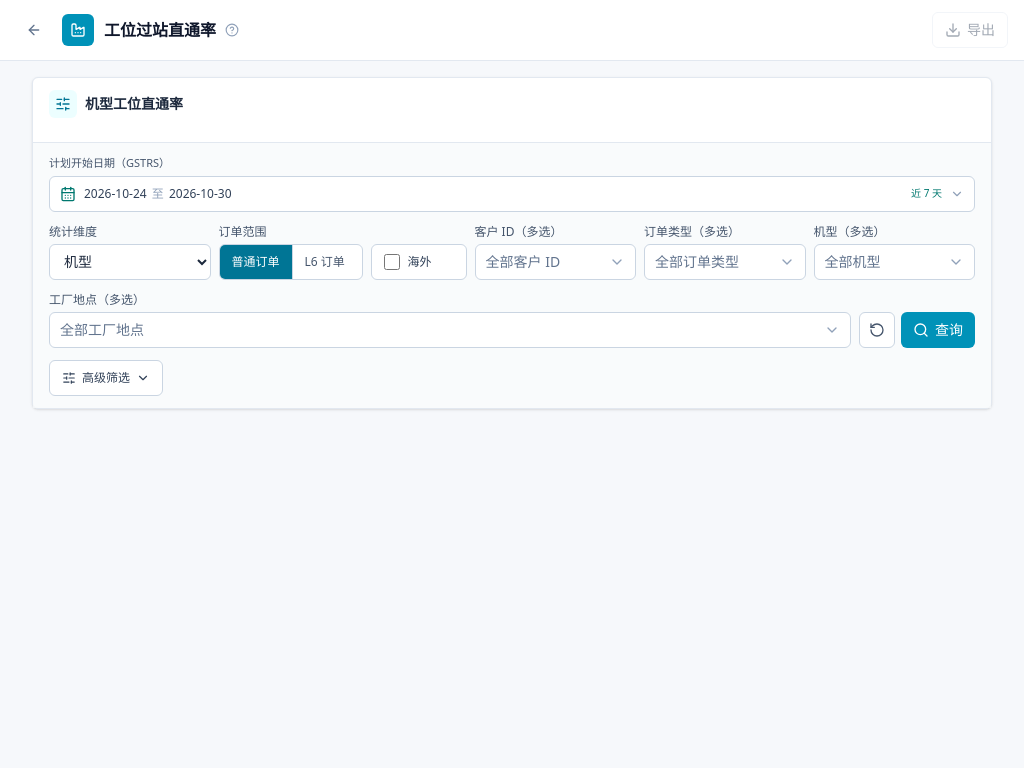
Test: StationPassRatePage customer filter › shows an error when station repair details cannot be loaded
What coordinates should you click on to do the following:
click the button "查询"
I would click on:
 (938, 330)
Its box is top-left (901, 312), bottom-right (975, 348).
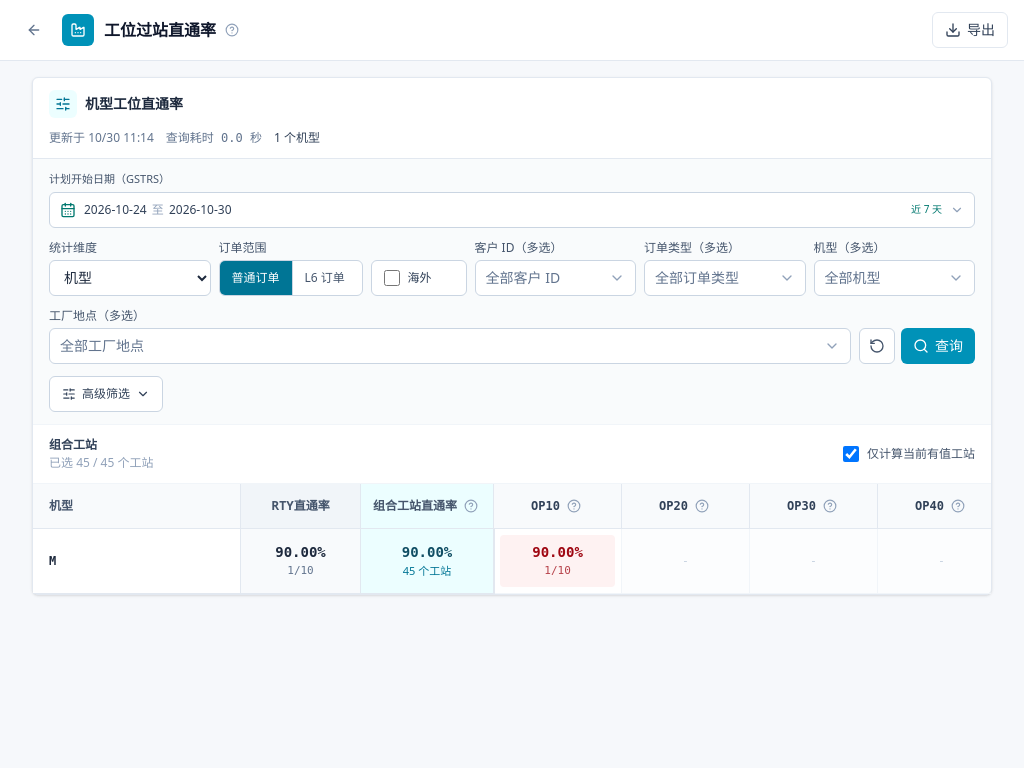
What coordinates should you click on to do the following:
click the button "90.00% 1/10"
I would click on:
 (558, 560)
Its box is top-left (500, 534), bottom-right (615, 586).
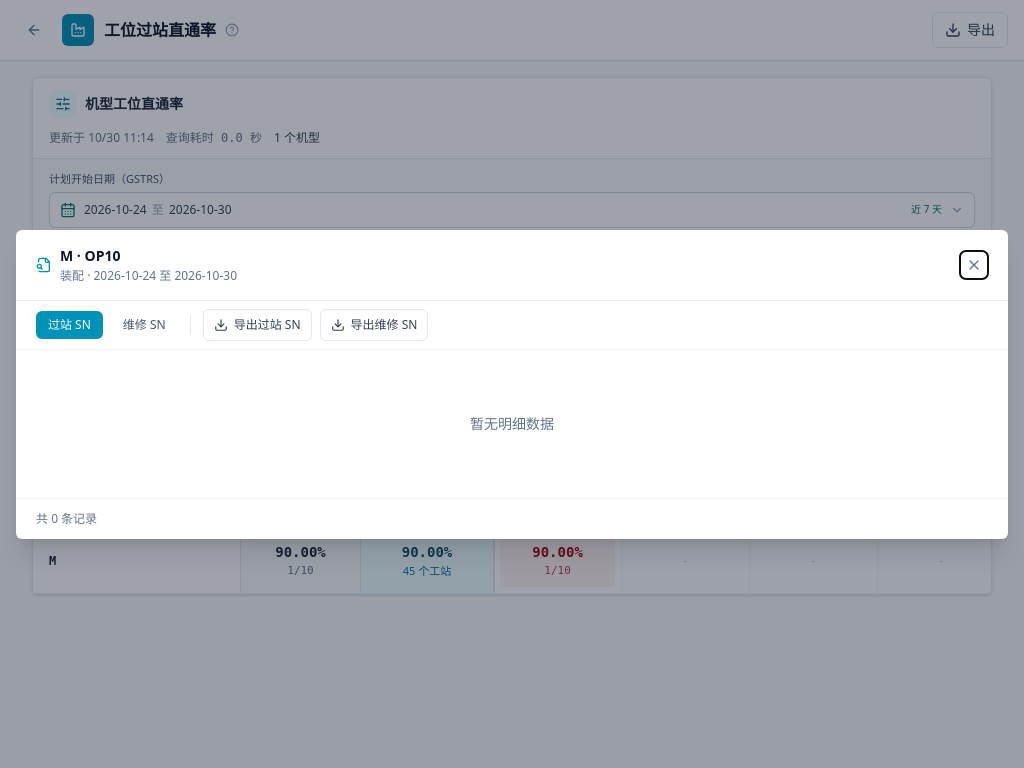
What coordinates should you click on to do the following:
click the button "维修 SN"
I would click on:
 (144, 324)
Its box is top-left (111, 310), bottom-right (178, 338).
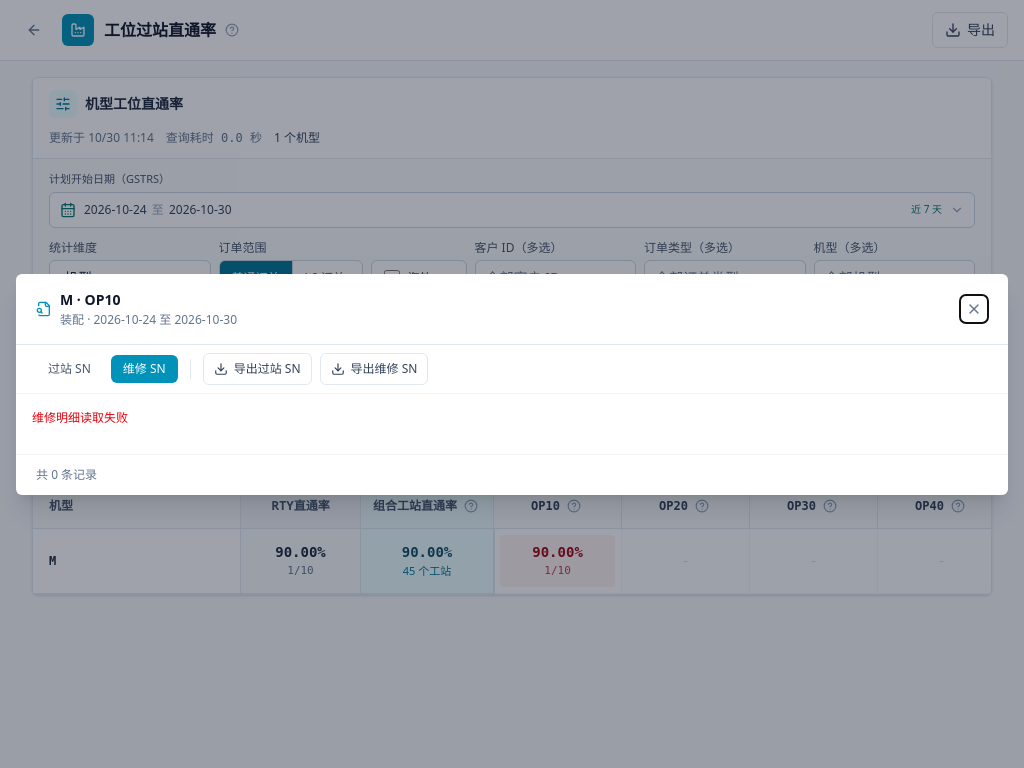
Result: the message reads "维修明细读取失败" at top-left (32, 408), bottom-right (128, 426)
